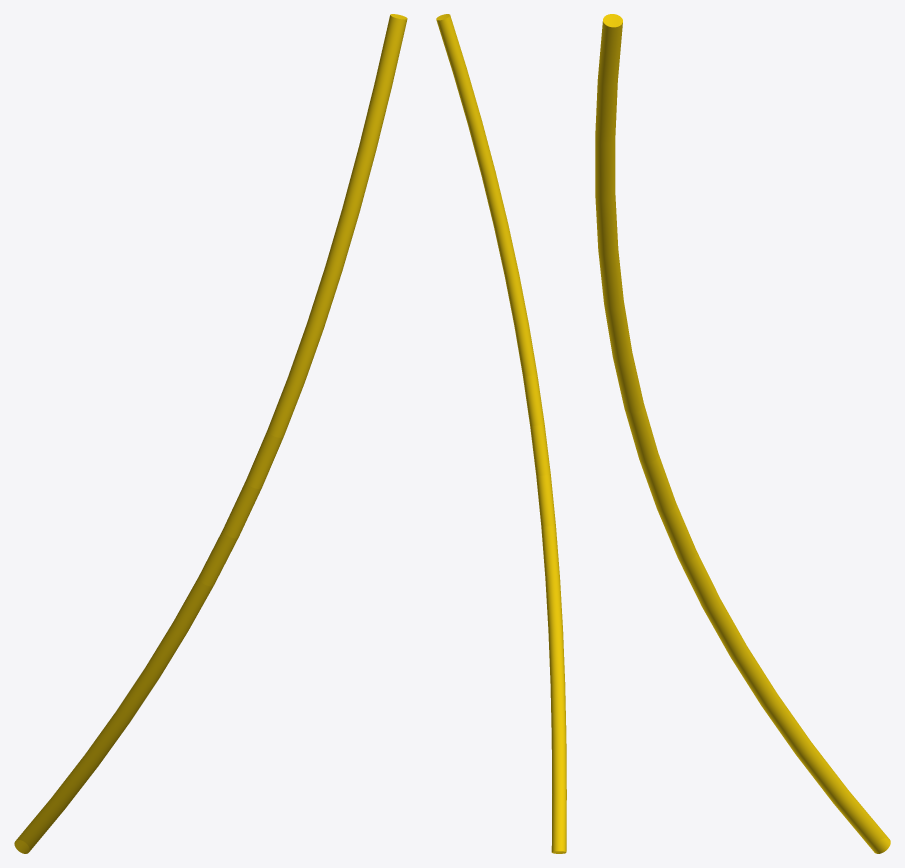
The model's file is Event_421364160_track_78.fbx.
3 views of the same model, side by side, from view 1: azimuth 30°, elevation 25°; view 2: azimuth 150°, elevation 25°; view 3: azimuth 270°, elevation 25° (orthographic). The views are drawn at different scales.
Visible parts, largest first — view 1: Model; view 2: Model; view 3: Model.
Part boxes in pixels (box(x1,y1,x2,y2)): Model: box(14, 14, 407, 853); Model: box(436, 14, 566, 853); Model: box(595, 14, 890, 853).
Bounding box in the file's own units: 0.7073 × 2.13 × 0.5857.
